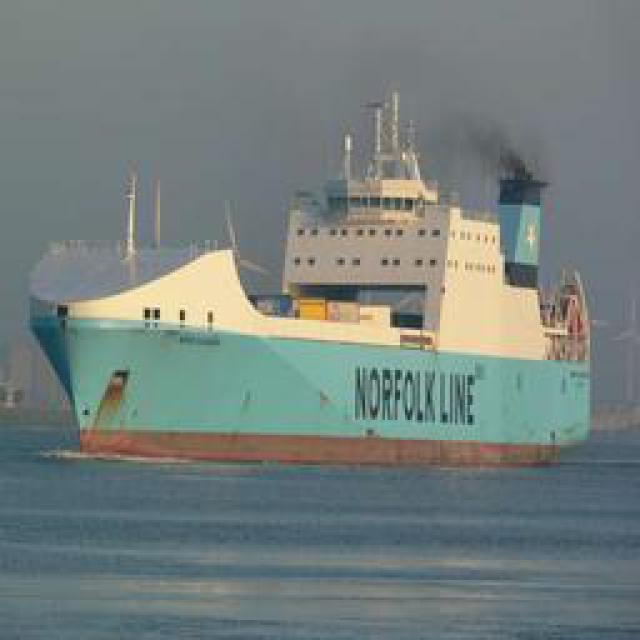Ship: (40, 107, 600, 485)
